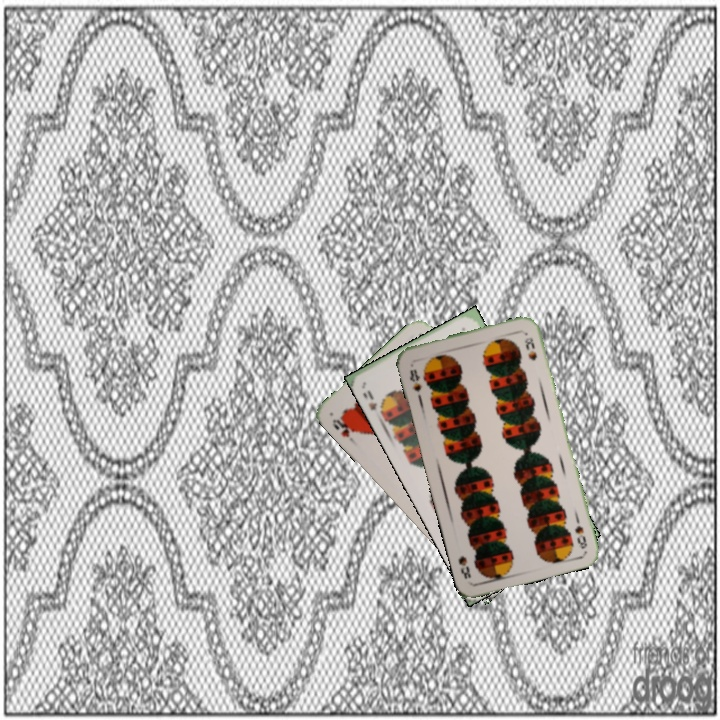HO: (328, 412, 359, 440)
S8: (571, 511, 589, 551), (406, 365, 425, 395)
S9: (363, 386, 389, 420)
